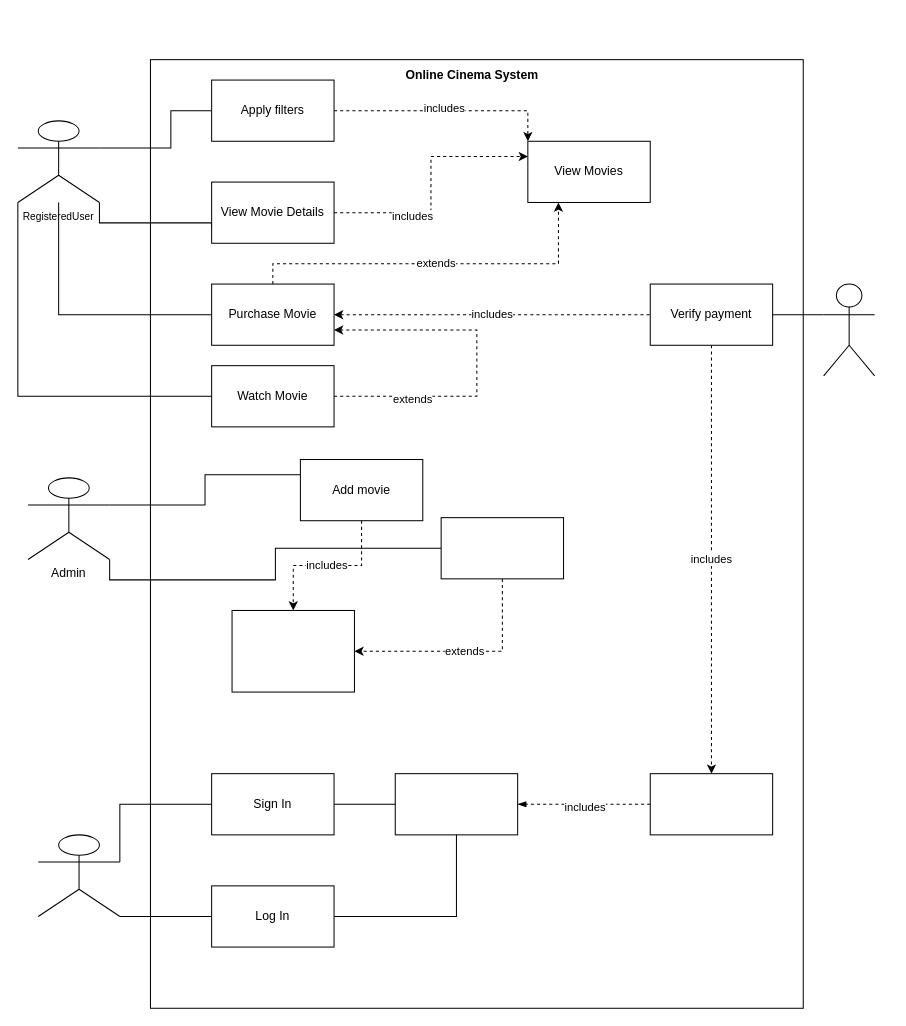
This 906x1026 diagram has some shape labels left out. Here are the shapes that lost their labels. From the top down, the centre of each, then its label:
At point (849, 329): "Payment Service".
At point (502, 548): "Modify movie".
At point (292, 650): "Upload file".
At point (456, 804): "Verify data".
At point (711, 804): "Send Notification".
At point (78, 875): "Guest".
